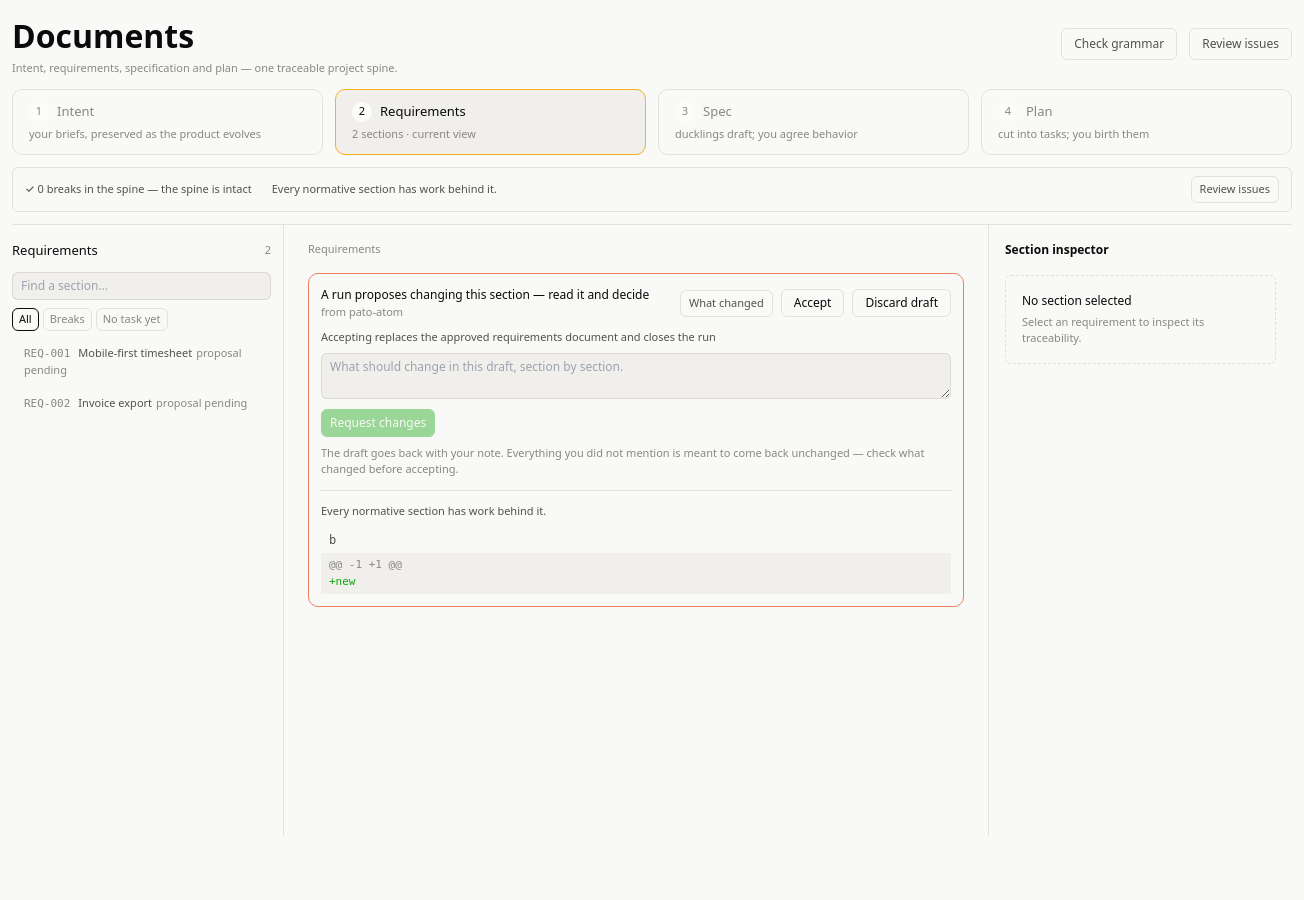
Cycle › promotes a proposal through the artifact endpoint, not a stage run
Click the button with test id "cycle-accept" at (813, 303), box [781,289,844,317]
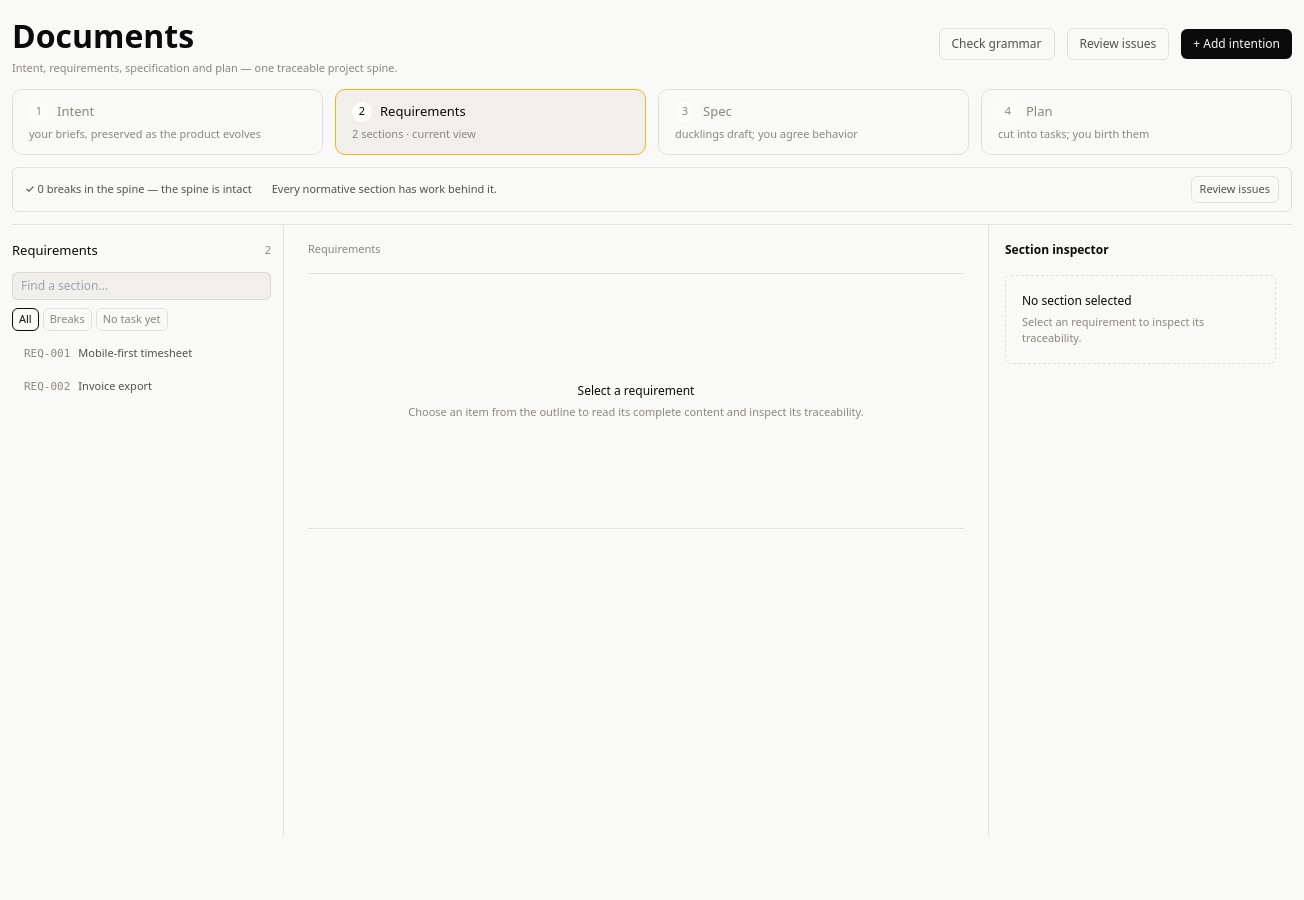
Now the element with test id "cycle-proposal" is gone
